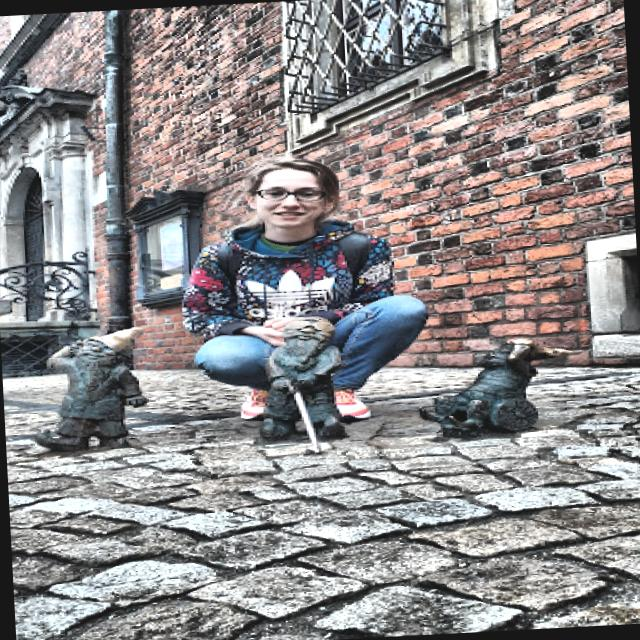Gluchak: (37, 327, 146, 450)
Slepak: (259, 317, 346, 453)
W-Skers: (422, 339, 571, 436)
